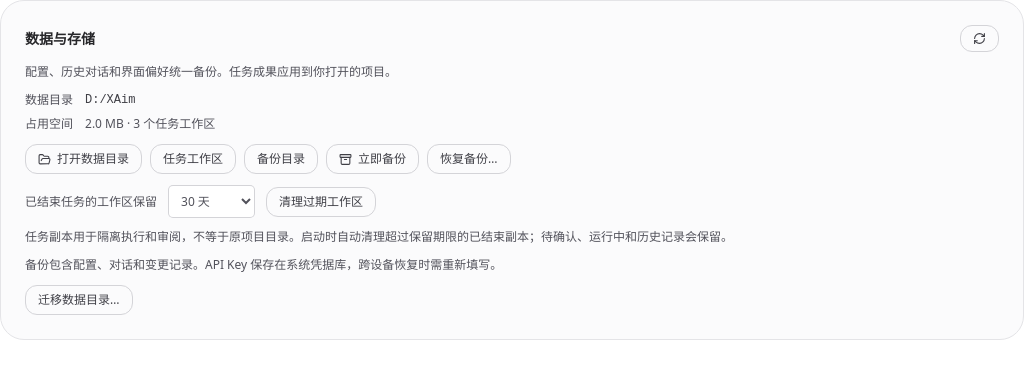
Test: keeps backup errors visible and allows retry
Click the button "立即备份". click: (372, 159)
box: top-left (326, 144), bottom-right (419, 174)
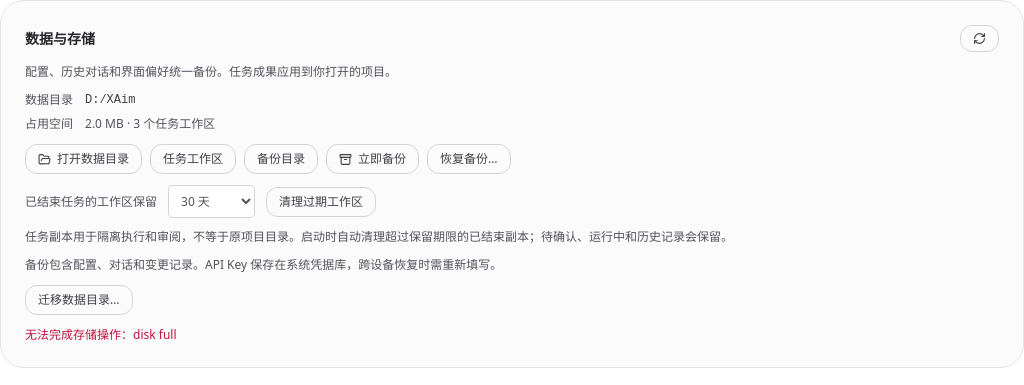
Check: the message shows "disk full", box top-left (133, 326), bottom-right (176, 343)
Click the button "立即备份". click: (372, 159)
box: top-left (326, 144), bottom-right (419, 174)
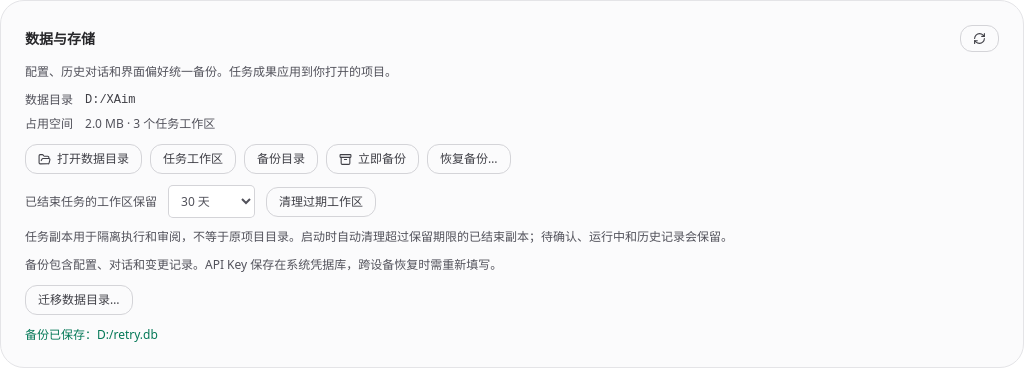
Check: the text "备份已保存：D:/retry.db" is shown, box top-left (25, 326), bottom-right (158, 343)
